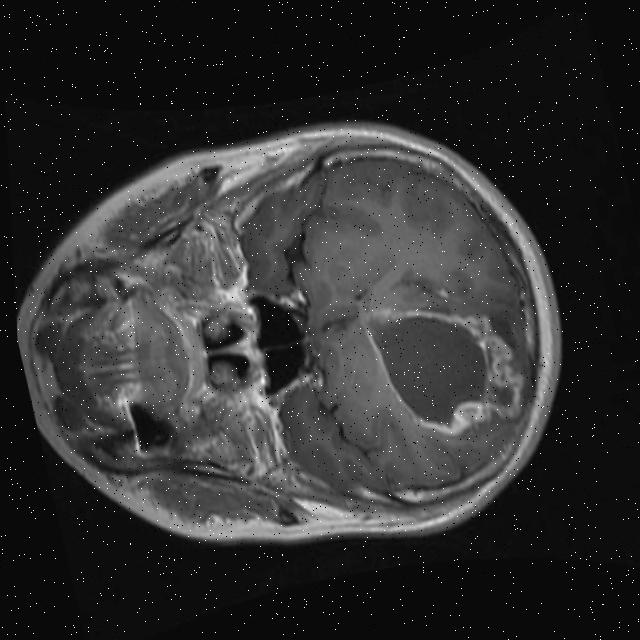Glioma: (358, 286, 535, 448)
